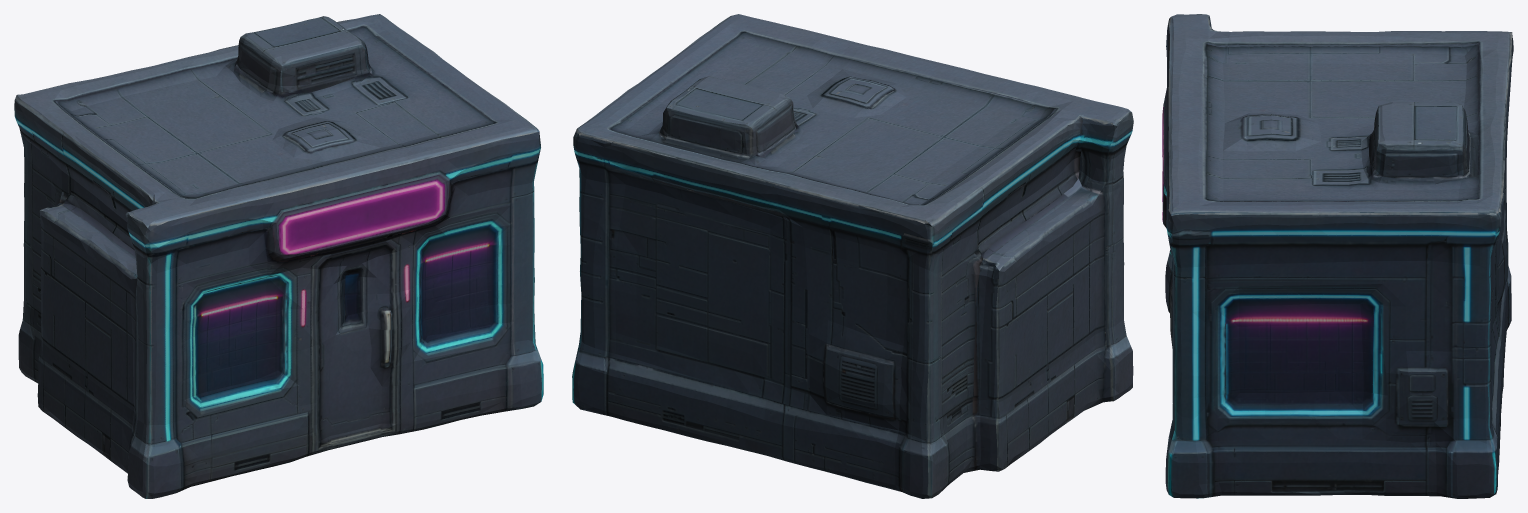
File: Building_Shop.fbx
3 renders of one model, left to right at view 1: azimuth 30°, elevation 25°; view 2: azimuth 150°, elevation 25°; view 3: azimuth 270°, elevation 25°, orthographic. The views are drawn at different scales.
Visible parts, largest first — view 1: Building_Original_Low.001; view 2: Building_Original_Low.001; view 3: Building_Original_Low.001.
Boxes of the visible parts, x1,y1,x2,y2 form: Building_Original_Low.001: (14,14,543,498); Building_Original_Low.001: (572,14,1133,498); Building_Original_Low.001: (1162,14,1513,498).
Size of the model in its own units: 6 by 4.44 by 4.41.
Materials: 1 (1 with a texture image).
